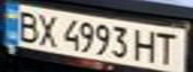3: (109, 24, 133, 61)
4: (57, 16, 81, 52)
9: (90, 21, 112, 56), (75, 19, 96, 54)
B: (9, 7, 42, 43)
H: (130, 27, 160, 64)
T: (154, 29, 184, 65)
X: (33, 11, 60, 47)
